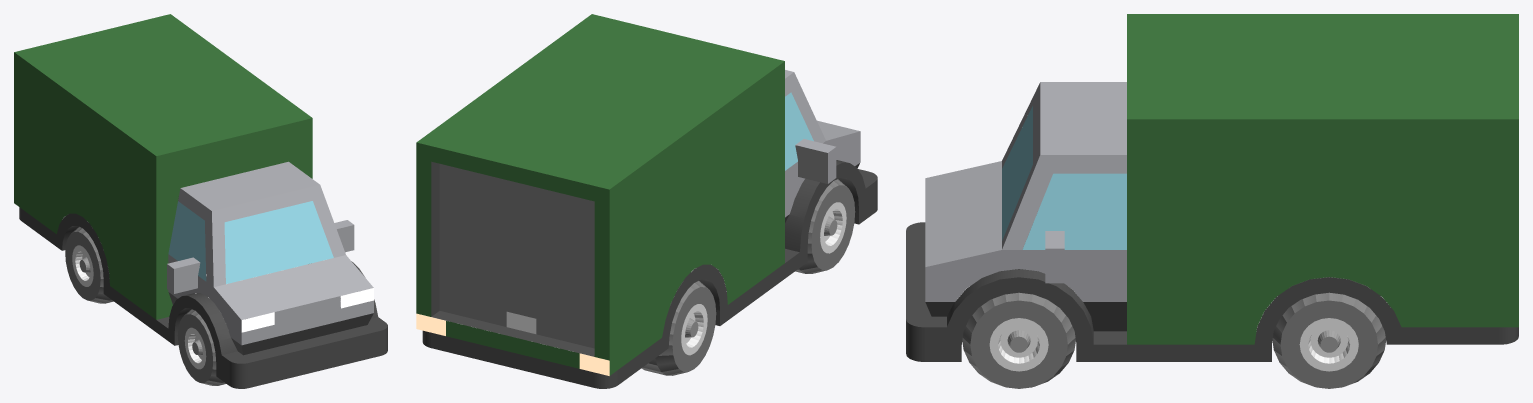
File: delivery-truck.glb
3 views of the same model, side by side, from view 1: azimuth 30°, elevation 25°; view 2: azimuth 150°, elevation 25°; view 3: azimuth 270°, elevation 25° (orthographic). The views are drawn at different scales.
Parts seen in each view (by area): view 1: body, wheel_backRight, wheel_frontRight; view 2: body, door, wheel_backRight, wheel_frontRight; view 3: body, wheel_backLeft, wheel_frontLeft.
Part boxes in pixels (left/top/right/bottom): body: left=14, top=14, right=387, bottom=388; wheel_backRight: left=65, top=222, right=113, bottom=303; wheel_frontRight: left=177, top=309, right=225, bottom=385; body: left=416, top=14, right=877, bottom=388; door: left=439, top=164, right=594, bottom=348; wheel_backRight: left=641, top=281, right=716, bottom=375; wheel_frontRight: left=795, top=179, right=855, bottom=273; body: left=906, top=14, right=1518, bottom=361; wheel_backLeft: left=1272, top=277, right=1385, bottom=388; wheel_frontLeft: left=962, top=292, right=1075, bottom=388.
Size of the model in its own units: 1.5 by 1.6 by 3.2.
